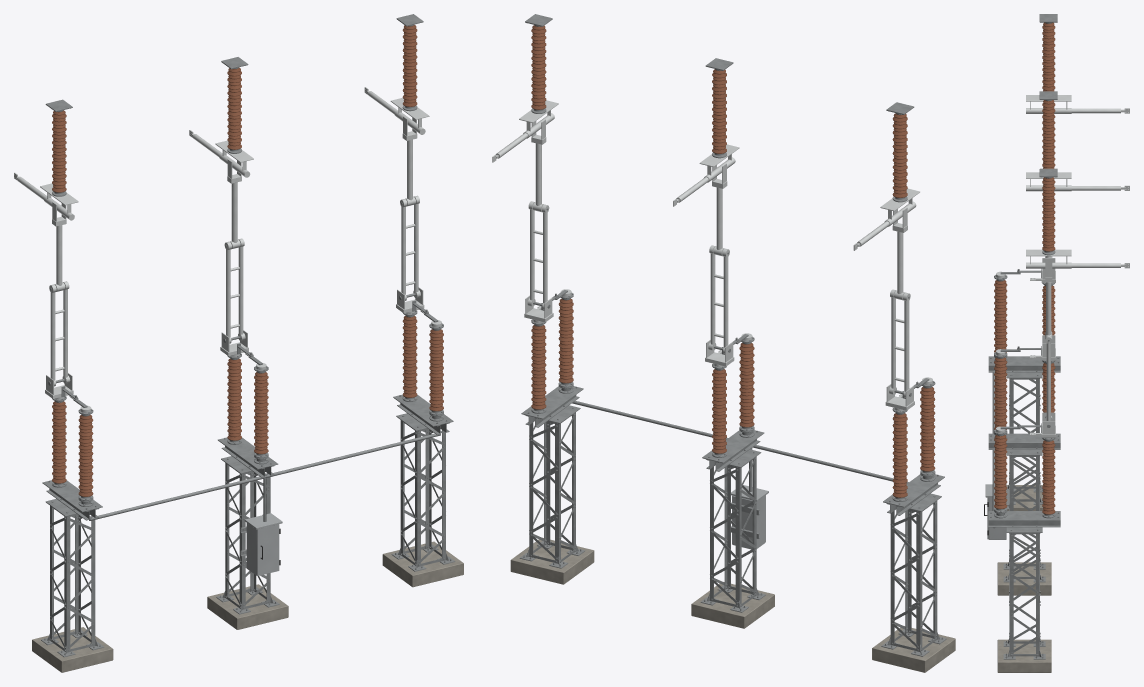
The model's file is Disconnector_SemiPantograph_138kV.fbx.
The picture shows the model from 3 angles, left to right: view 1: azimuth 30°, elevation 25°; view 2: azimuth 150°, elevation 25°; view 3: azimuth 270°, elevation 25°; orthographic projection. The views are drawn at different scales.
Visible parts, largest first — view 1: Body_GalvanizedSteel_LOD0, Body_PorcelainBrown_LOD0, Body_Concrete_LOD0, Body_Aluminium_LOD0, LowerArm_2_LOD0, LowerArm_1_LOD0, ControlCabinet_Door_LOD0, LowerArm_3_LOD0, Body_CoatedSteel_LOD0, UpperArm_2_LOD0, UpperArm_1_LOD0; view 2: Body_GalvanizedSteel_LOD0, Body_PorcelainBrown_LOD0, Body_Concrete_LOD0, Body_Aluminium_LOD0, LowerArm_2_LOD0, LowerArm_1_LOD0, LowerArm_3_LOD0, Body_CoatedSteel_LOD0, UpperArm_1_LOD0, UpperArm_3_LOD0, UpperArm_2_LOD0; view 3: Body_GalvanizedSteel_LOD0, Body_PorcelainBrown_LOD0, Body_Aluminium_LOD0, Body_Concrete_LOD0, UpperArm_3_LOD0, LowerArm_3_LOD0, Body_CoatedSteel_LOD0.
Boxes of the visible parts, box(x1,y1,x2,y2) form: Body_GalvanizedSteel_LOD0: box(41, 14, 455, 657); Body_PorcelainBrown_LOD0: box(52, 25, 443, 496); Body_Concrete_LOD0: box(32, 541, 463, 672); Body_Aluminium_LOD0: box(14, 87, 441, 412); LowerArm_2_LOD0: box(224, 238, 245, 343); LowerArm_1_LOD0: box(49, 281, 70, 386); ControlCabinet_Door_LOD0: box(256, 524, 279, 575); LowerArm_3_LOD0: box(400, 195, 420, 300); Body_CoatedSteel_LOD0: box(244, 513, 282, 575); UpperArm_2_LOD0: box(227, 159, 241, 249); UpperArm_1_LOD0: box(52, 202, 66, 291); Body_GalvanizedSteel_LOD0: box(519, 14, 946, 656); Body_PorcelainBrown_LOD0: box(531, 25, 935, 497); Body_Concrete_LOD0: box(510, 537, 955, 672); Body_Aluminium_LOD0: box(492, 100, 932, 411); LowerArm_2_LOD0: box(708, 245, 729, 353); LowerArm_1_LOD0: box(889, 289, 910, 397); LowerArm_3_LOD0: box(527, 201, 549, 309); Body_CoatedSteel_LOD0: box(731, 485, 768, 549); UpperArm_1_LOD0: box(892, 207, 907, 300); UpperArm_3_LOD0: box(531, 119, 546, 212); UpperArm_2_LOD0: box(712, 163, 727, 256); Body_GalvanizedSteel_LOD0: box(988, 14, 1060, 659); Body_PorcelainBrown_LOD0: box(994, 22, 1055, 514); Body_Aluminium_LOD0: box(996, 95, 1129, 438); Body_Concrete_LOD0: box(997, 485, 1051, 672); UpperArm_3_LOD0: box(1045, 258, 1052, 337); LowerArm_3_LOD0: box(1045, 331, 1052, 420); Body_CoatedSteel_LOD0: box(985, 484, 1006, 539).
Size of what is drawn, in the model's own units: 6.99 by 8.98 by 2.43.
